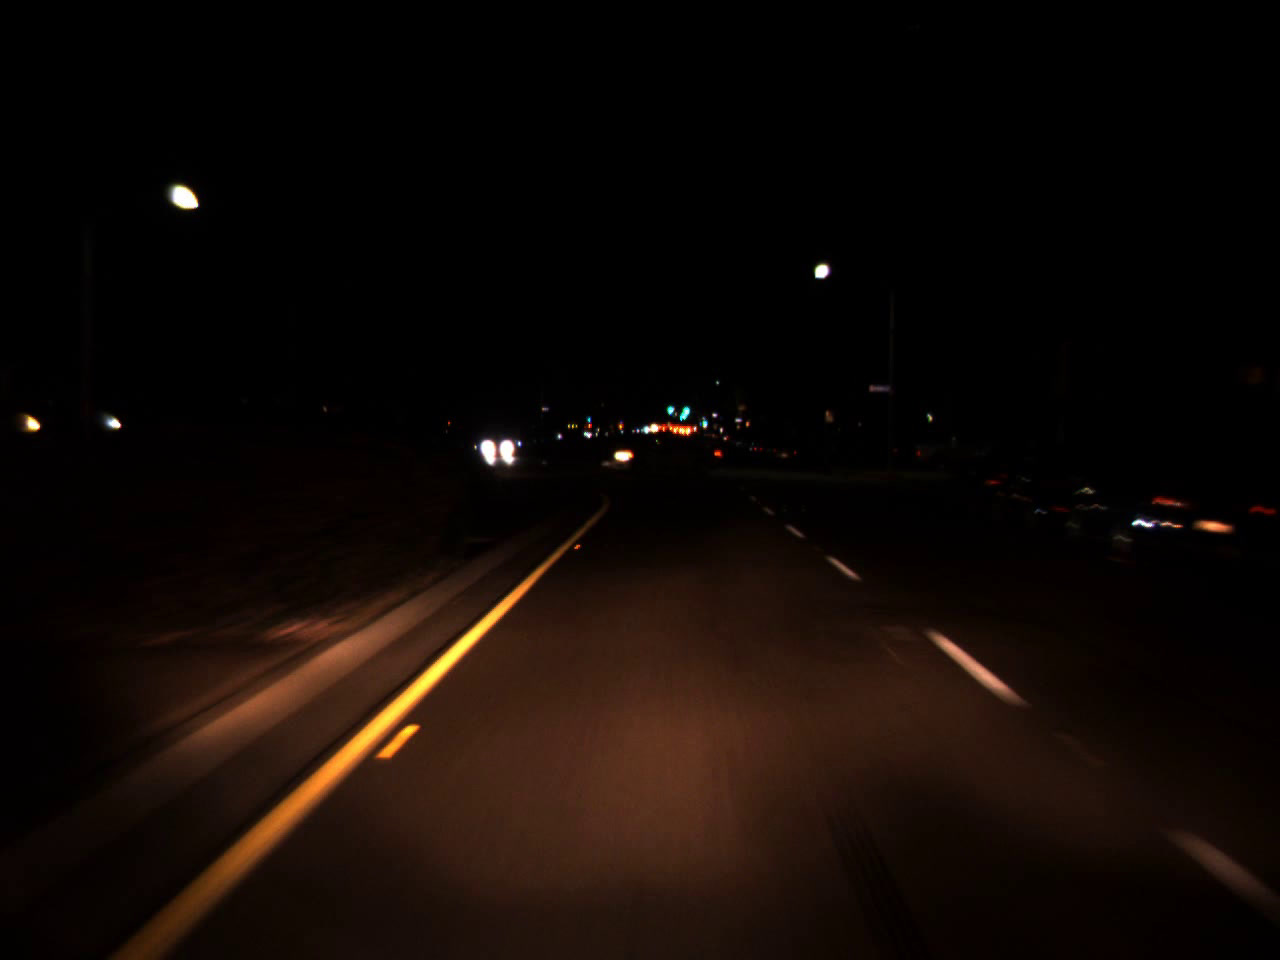go: (678, 397, 690, 418), (666, 398, 673, 416), (585, 412, 592, 424)
